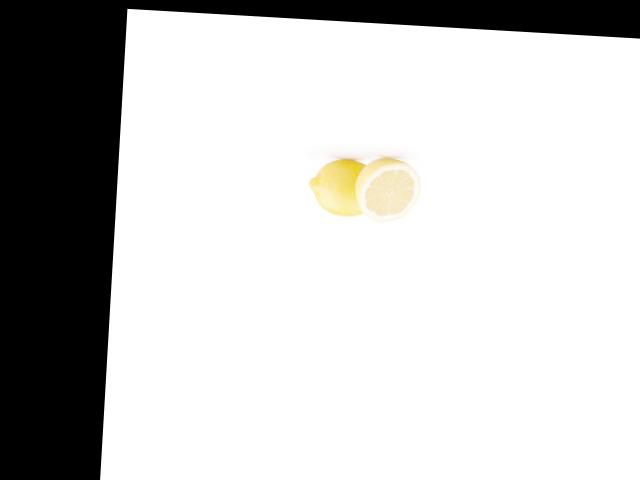lemon: (304, 150, 376, 221)
